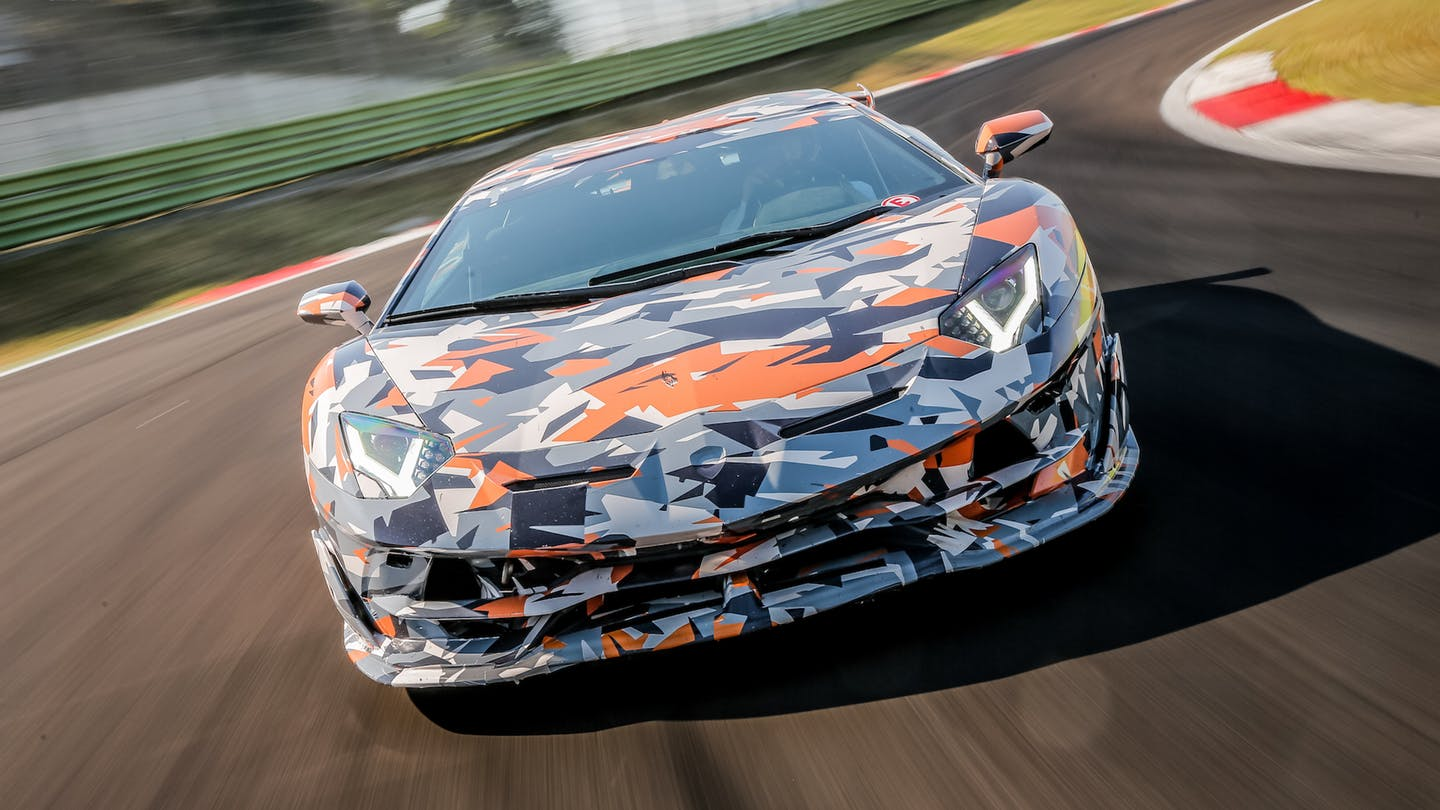car: (295, 89, 1149, 694)
